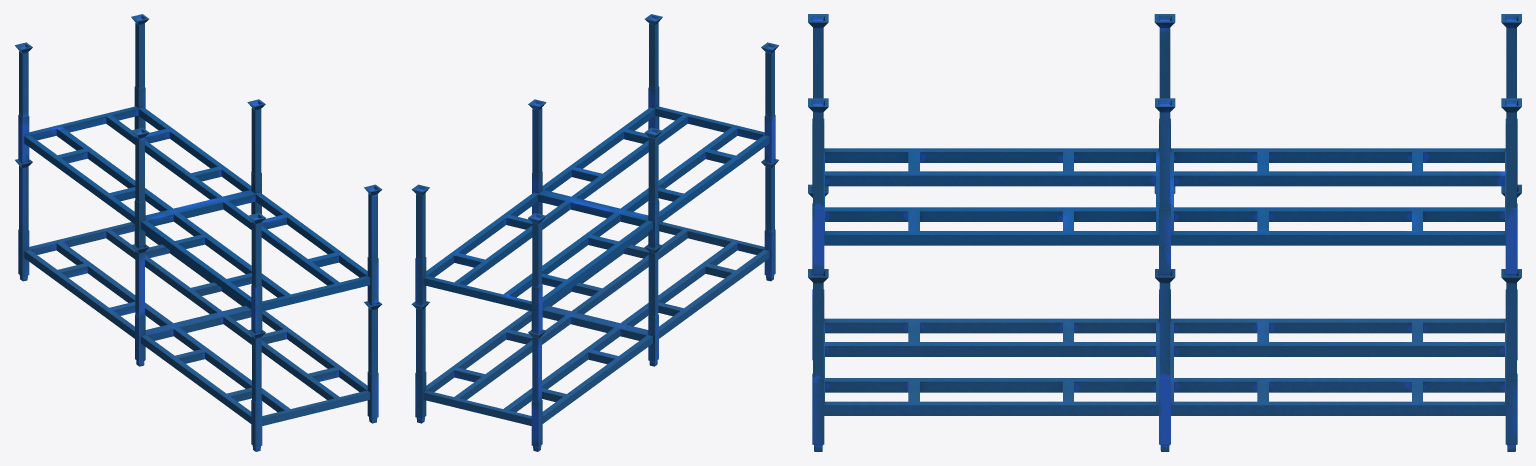
Rendered from rack tubos.FBX.
3 views of the same model, side by side, from view 1: azimuth 30°, elevation 25°; view 2: azimuth 150°, elevation 25°; view 3: azimuth 270°, elevation 25° (orthographic). The views are drawn at different scales.
Visible parts, largest first — view 1: BaseArriba, BaseAbajo, Pata11, Pata5, Pata12, Pata6, Pata7, Pata1, Pata9, Pata3, Pata10, Pata8; view 2: BaseArriba, BaseAbajo, Pata7, Pata1, Pata8, Pata9, Pata3, Pata2, Pata11, Pata5, Pata10, Pata12; view 3: BaseArriba, BaseAbajo, Pata10, Pata12, Pata8, Pata4, Pata6, Pata2, Pata9, Pata7, Pata11.
Boxes of the visible parts, x1,y1,x2,y2 form: BaseArriba: [24, 106, 370, 311]; BaseAbajo: [24, 222, 370, 425]; Pata11: [247, 213, 265, 333]; Pata5: [247, 329, 265, 451]; Pata12: [364, 184, 382, 305]; Pata6: [364, 301, 382, 423]; Pata7: [15, 42, 32, 163]; Pata1: [15, 159, 32, 281]; Pata9: [131, 127, 149, 248]; Pata3: [131, 244, 149, 366]; Pata10: [247, 99, 265, 214]; Pata8: [131, 14, 148, 129]; BaseArriba: [423, 106, 769, 311]; BaseAbajo: [423, 222, 769, 425]; Pata7: [528, 213, 546, 333]; Pata1: [528, 329, 546, 451]; Pata8: [411, 184, 429, 305]; Pata9: [644, 127, 662, 248]; Pata3: [644, 244, 662, 366]; Pata2: [411, 301, 429, 423]; Pata11: [761, 42, 778, 163]; Pata5: [761, 159, 778, 281]; Pata10: [528, 99, 546, 214]; Pata12: [645, 14, 662, 129]; BaseArriba: [823, 148, 1506, 245]; BaseAbajo: [823, 318, 1506, 415]; Pata10: [1155, 98, 1175, 275]; Pata12: [808, 98, 828, 275]; Pata8: [1501, 98, 1521, 275]; Pata4: [1155, 269, 1175, 451]; Pata6: [808, 269, 828, 451]; Pata2: [1501, 269, 1521, 451]; Pata9: [1154, 14, 1175, 151]; Pata7: [1501, 14, 1521, 189]; Pata11: [808, 14, 828, 189].
Bounding box in the file's own units: 36.58 × 63.72 × 119.
Materials: 1 (1 with a texture image).
